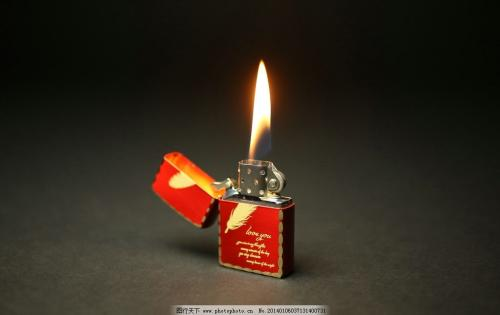fire: (232, 60, 288, 167)
